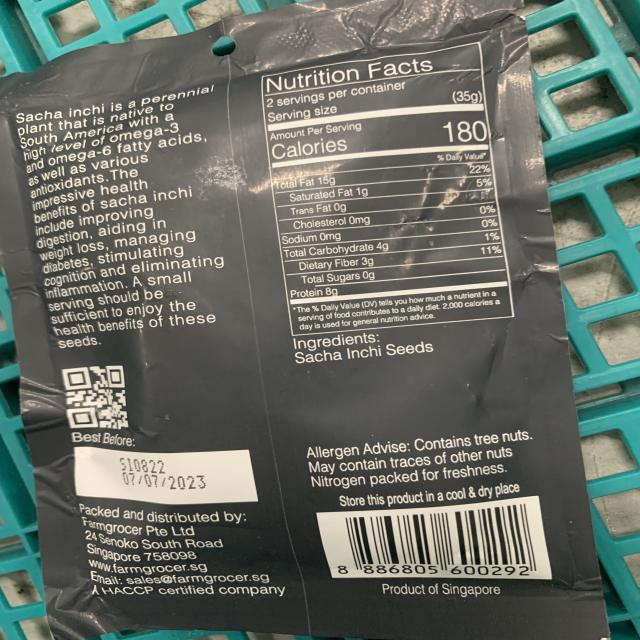object_name: (12, 30, 598, 635)
